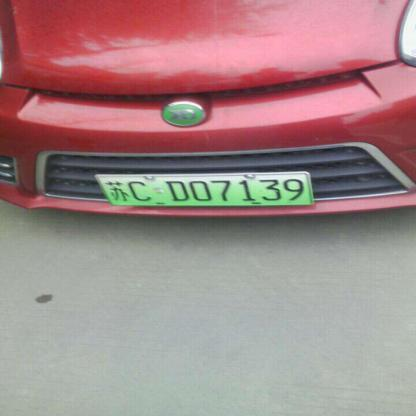lp: (94, 172, 315, 206)
